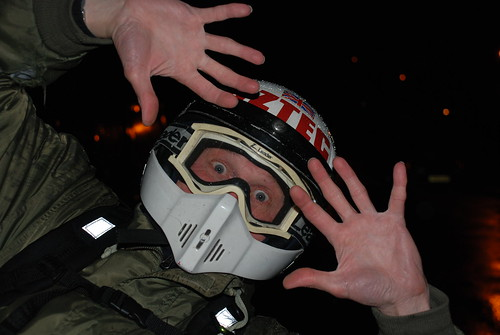helmet: (130, 77, 338, 282)
